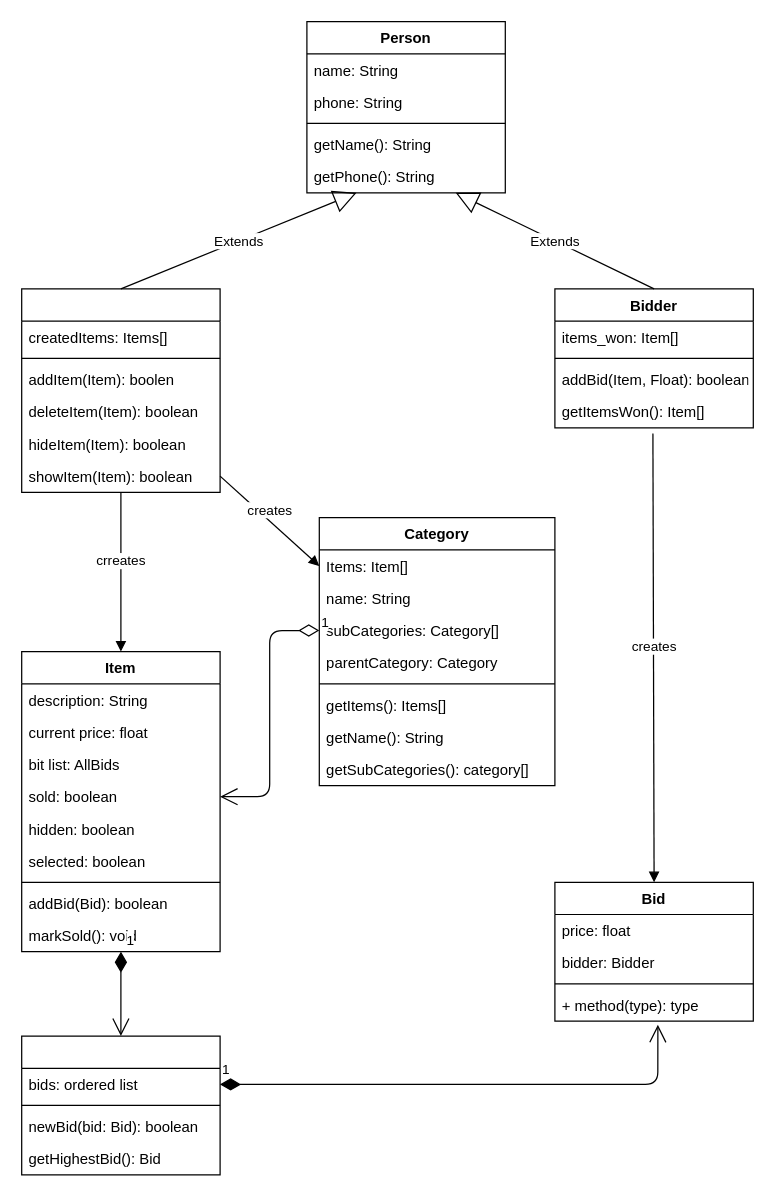
Some shapes in this 775 by 1200 pixel diagram are drawn without their labels. Here are the shapes that lost their labels. From the top down, the box of each, then its label:
(20, 288, 220, 492): Admin
(20, 1035, 220, 1175): AllBids
